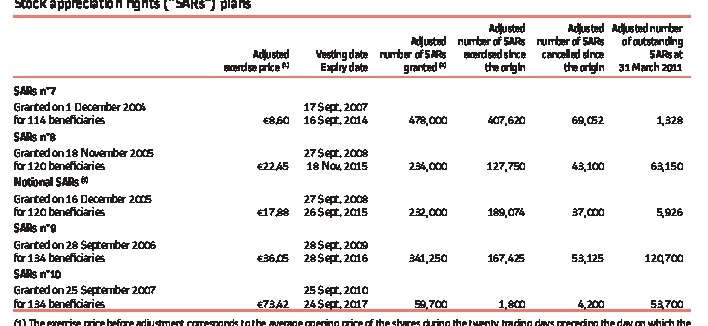table: (0, 0, 708, 326)
